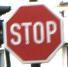Stop sign: (0, 0, 67, 66)
